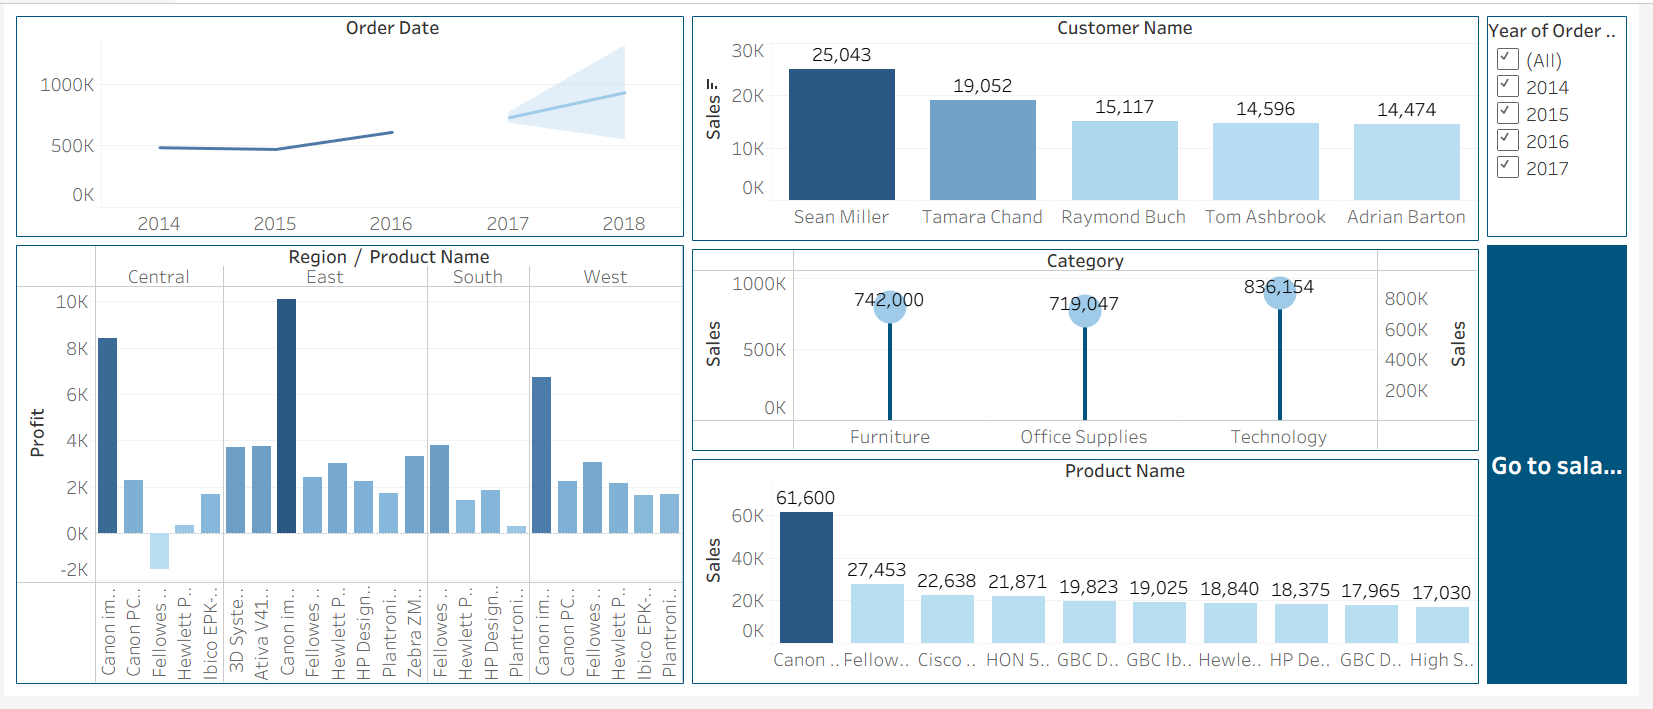

What the dashboard file says about the page in this screenshot:
{"tool":"tableau","page":{"name":"Product Details Dashboard","canvas":[1000,1000],"units":"permille","ordinal":1},"visuals":[{"type":"worksheet","title":"Sales forecast report","mark":"Automatic","rows":["Sales"],"cols":["Order Date"],"box":[4.9,11.6,413.5,330.9]},{"type":"worksheet","title":"Sales by top 5 Customers","mark":"Automatic","rows":["Sales"],"cols":["Customer Name"],"box":[418.4,11.6,486.2,336.7]},{"type":"filter","title":" Top 10 Profitable Products ","param":"[federated.0gy6sry1k8og0t1baugcc15zj8vb].[yr:Order Date:ok]","box":[904.6,11.6,90.5,330.9]},{"type":"worksheet","title":" Top 10 Profitable Products ","mark":"Automatic","rows":["Profit"],"cols":["Region","Product Name"],"box":[4.9,342.4,413.5,646]},{"type":"dashboard-object","box":[904.6,342.4,90.5,646]},{"type":"worksheet","title":"Use Lollipop ","mark":"Automatic","rows":["Sales","Sales"],"cols":["Category"],"box":[418.4,348.3,486.2,303.5]},{"type":"worksheet","title":"Sales by top 10 Manufactures","mark":"Automatic","rows":["Sales"],"cols":["Product Name"],"box":[418.4,651.7,486.2,336.7]}]}

Visuals, with their boxes on the dashboard's canvas, which has no fixed pixel size, in thousandths of its width and height (x1, y1, x2, y2). These are canvas units, not pixel positions in the 1653x709 screenshot, which may show the page scaled, cropped or inside an application window:
"Sales forecast report" worksheet: <region>5, 12, 418, 342</region>
"Sales by top 5 Customers" worksheet: <region>418, 12, 905, 348</region>
" Top 10 Profitable Products " filter: <region>905, 12, 995, 342</region>
" Top 10 Profitable Products " worksheet: <region>5, 342, 418, 988</region>
dashboard-object: <region>905, 342, 995, 988</region>
"Use Lollipop " worksheet: <region>418, 348, 905, 652</region>
"Sales by top 10 Manufactures" worksheet: <region>418, 652, 905, 988</region>
